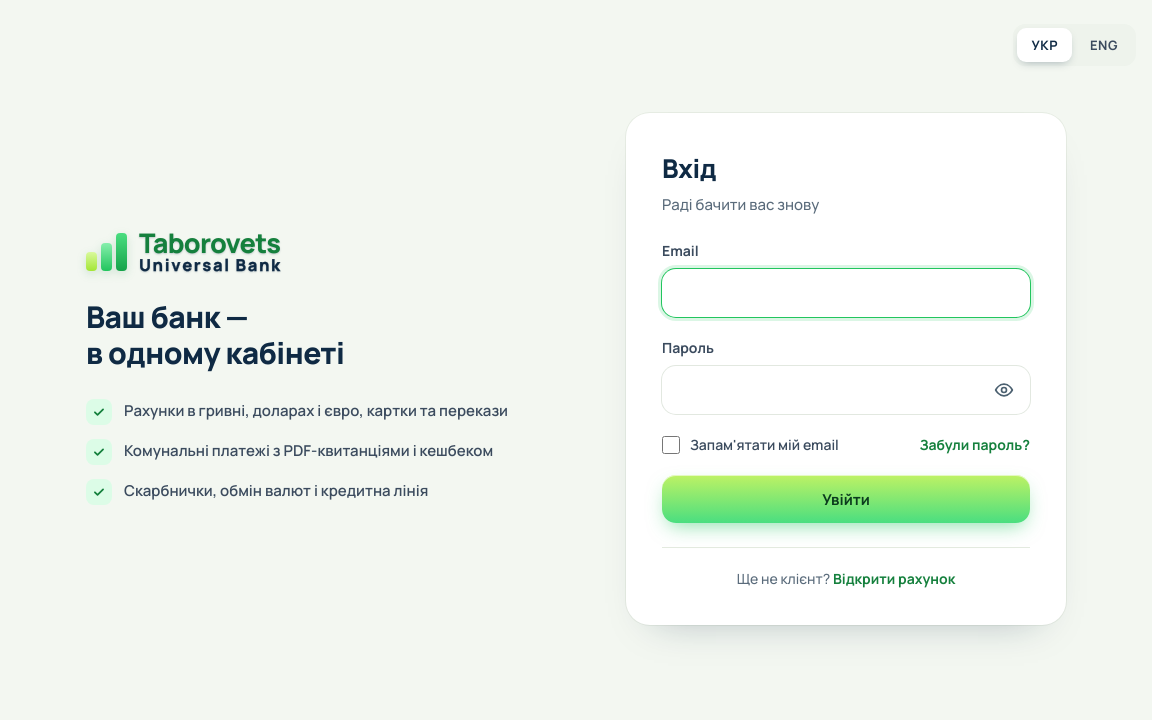
Test: LoginPage › points at the empty fields instead of calling the bank
This screenshot has width=1152, height=720.
Click the button "Увійти".
click(846, 499)  # box [662,475,1030,523]
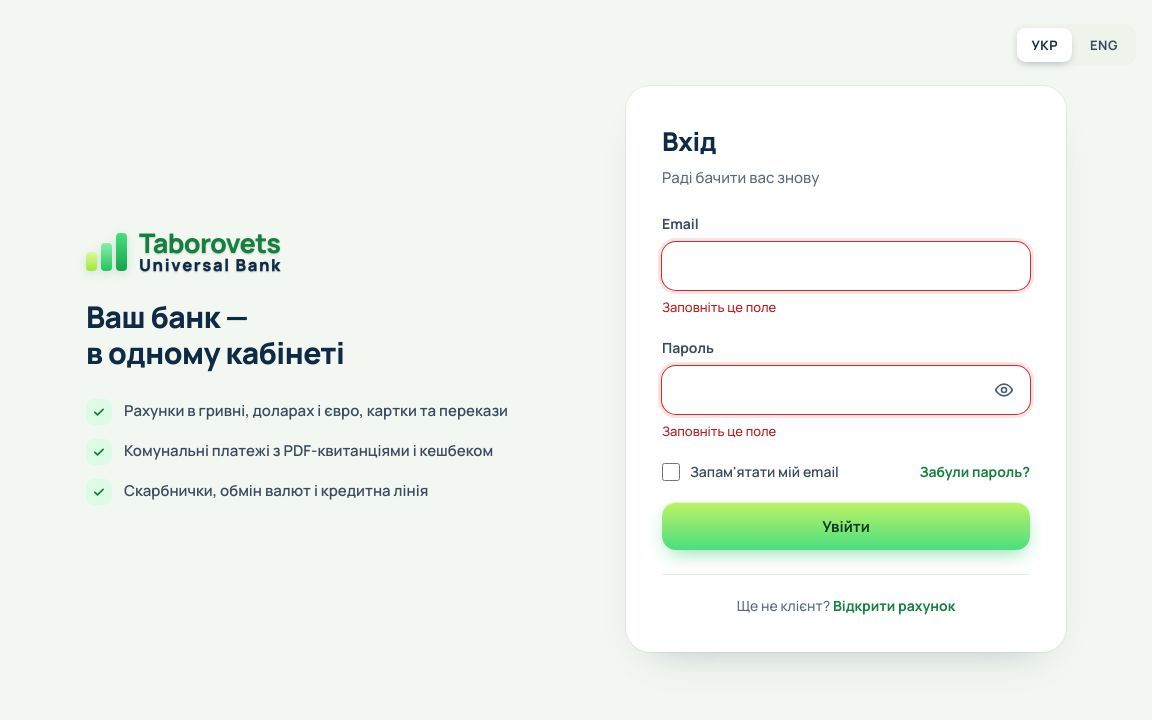
Now the text "Заповніть це поле" is shown 2 times, box [662,298,776,316]; [662,422,776,440]
